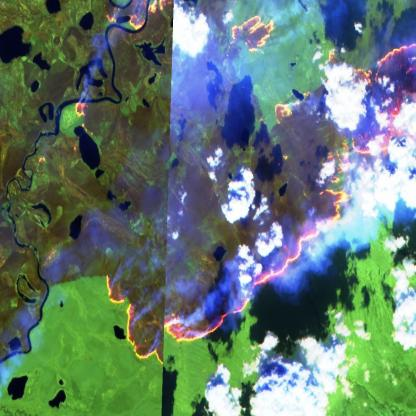fire: (71, 0, 416, 368)
